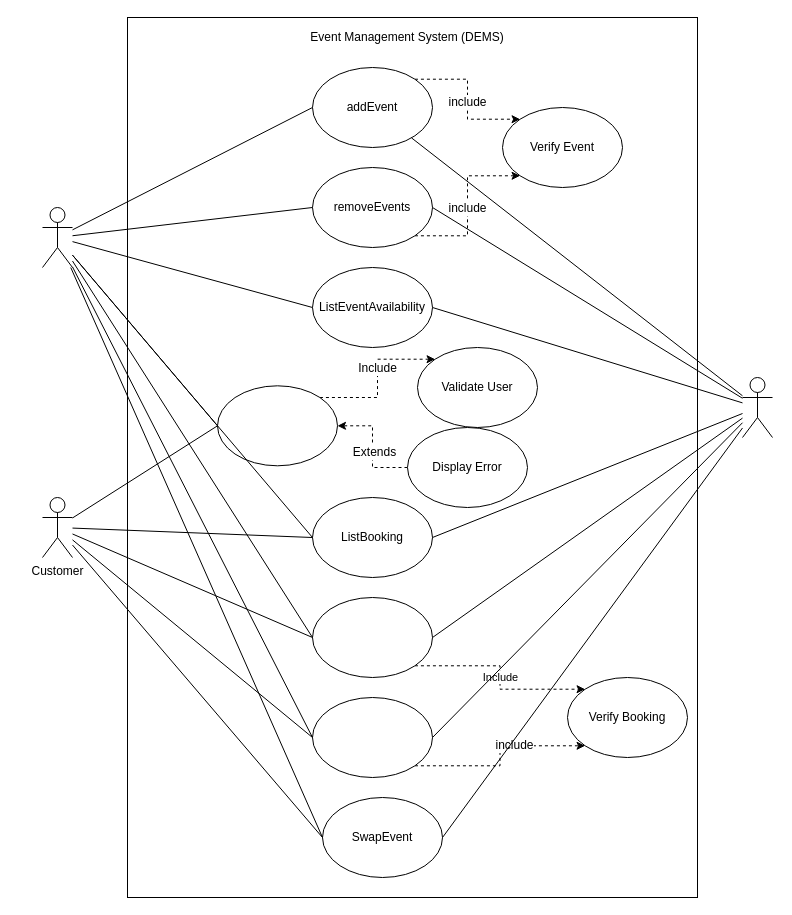
Image size: 792x915. Some labels were removed from this diagram. Here are the shapes that lost their labels. From the top down, the centre of each, then its label:
the point at 57,237: Event Manager
the point at 277,425: Login
the point at 757,407: DEMS
the point at 372,637: BookEvent
the point at 372,737: CancelBooking
